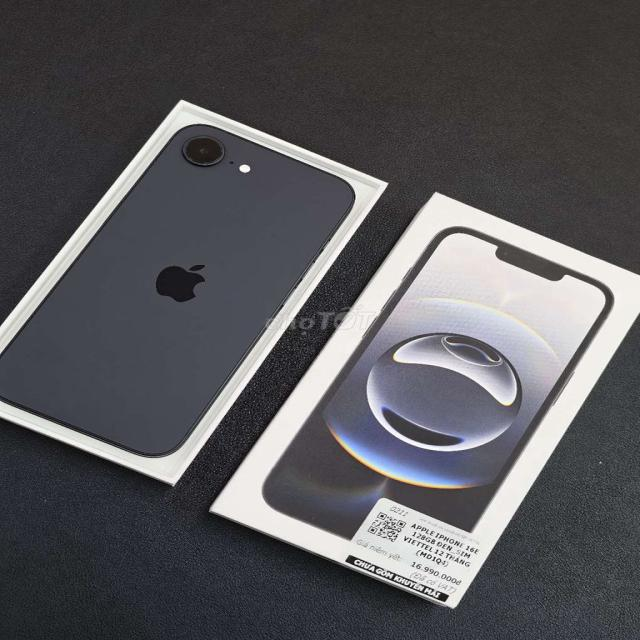gen_16: (0, 124, 354, 457)
